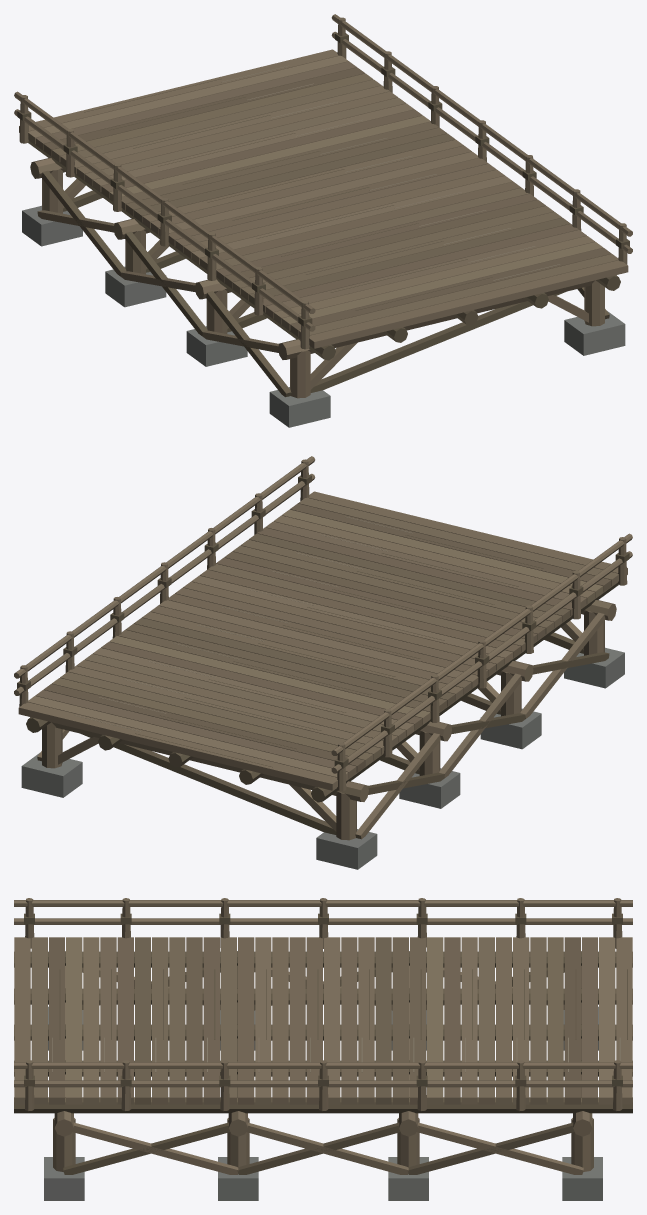
The model's file is bridge_timber.glb.
The picture shows the model from 3 angles, top to bottom: view 1: azimuth 30°, elevation 25°; view 2: azimuth 150°, elevation 25°; view 3: azimuth 270°, elevation 25°; orthographic projection. The views are drawn at different scales.
Parts seen in each view (by area): view 1: bridge_timber; view 2: bridge_timber; view 3: bridge_timber.
Part boxes in pixels (x1=…): bridge_timber: x1=14, y1=14, x2=632, y2=427; bridge_timber: x1=14, y1=456, x2=632, y2=869; bridge_timber: x1=14, y1=898, x2=632, y2=1200.
Size of the model in its own units: 10.5 by 3.83 by 16.
